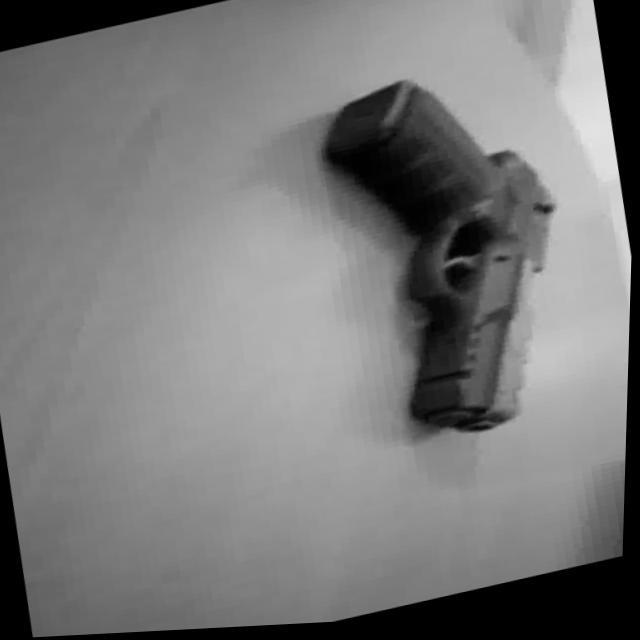weapon: (307, 52, 598, 463)
